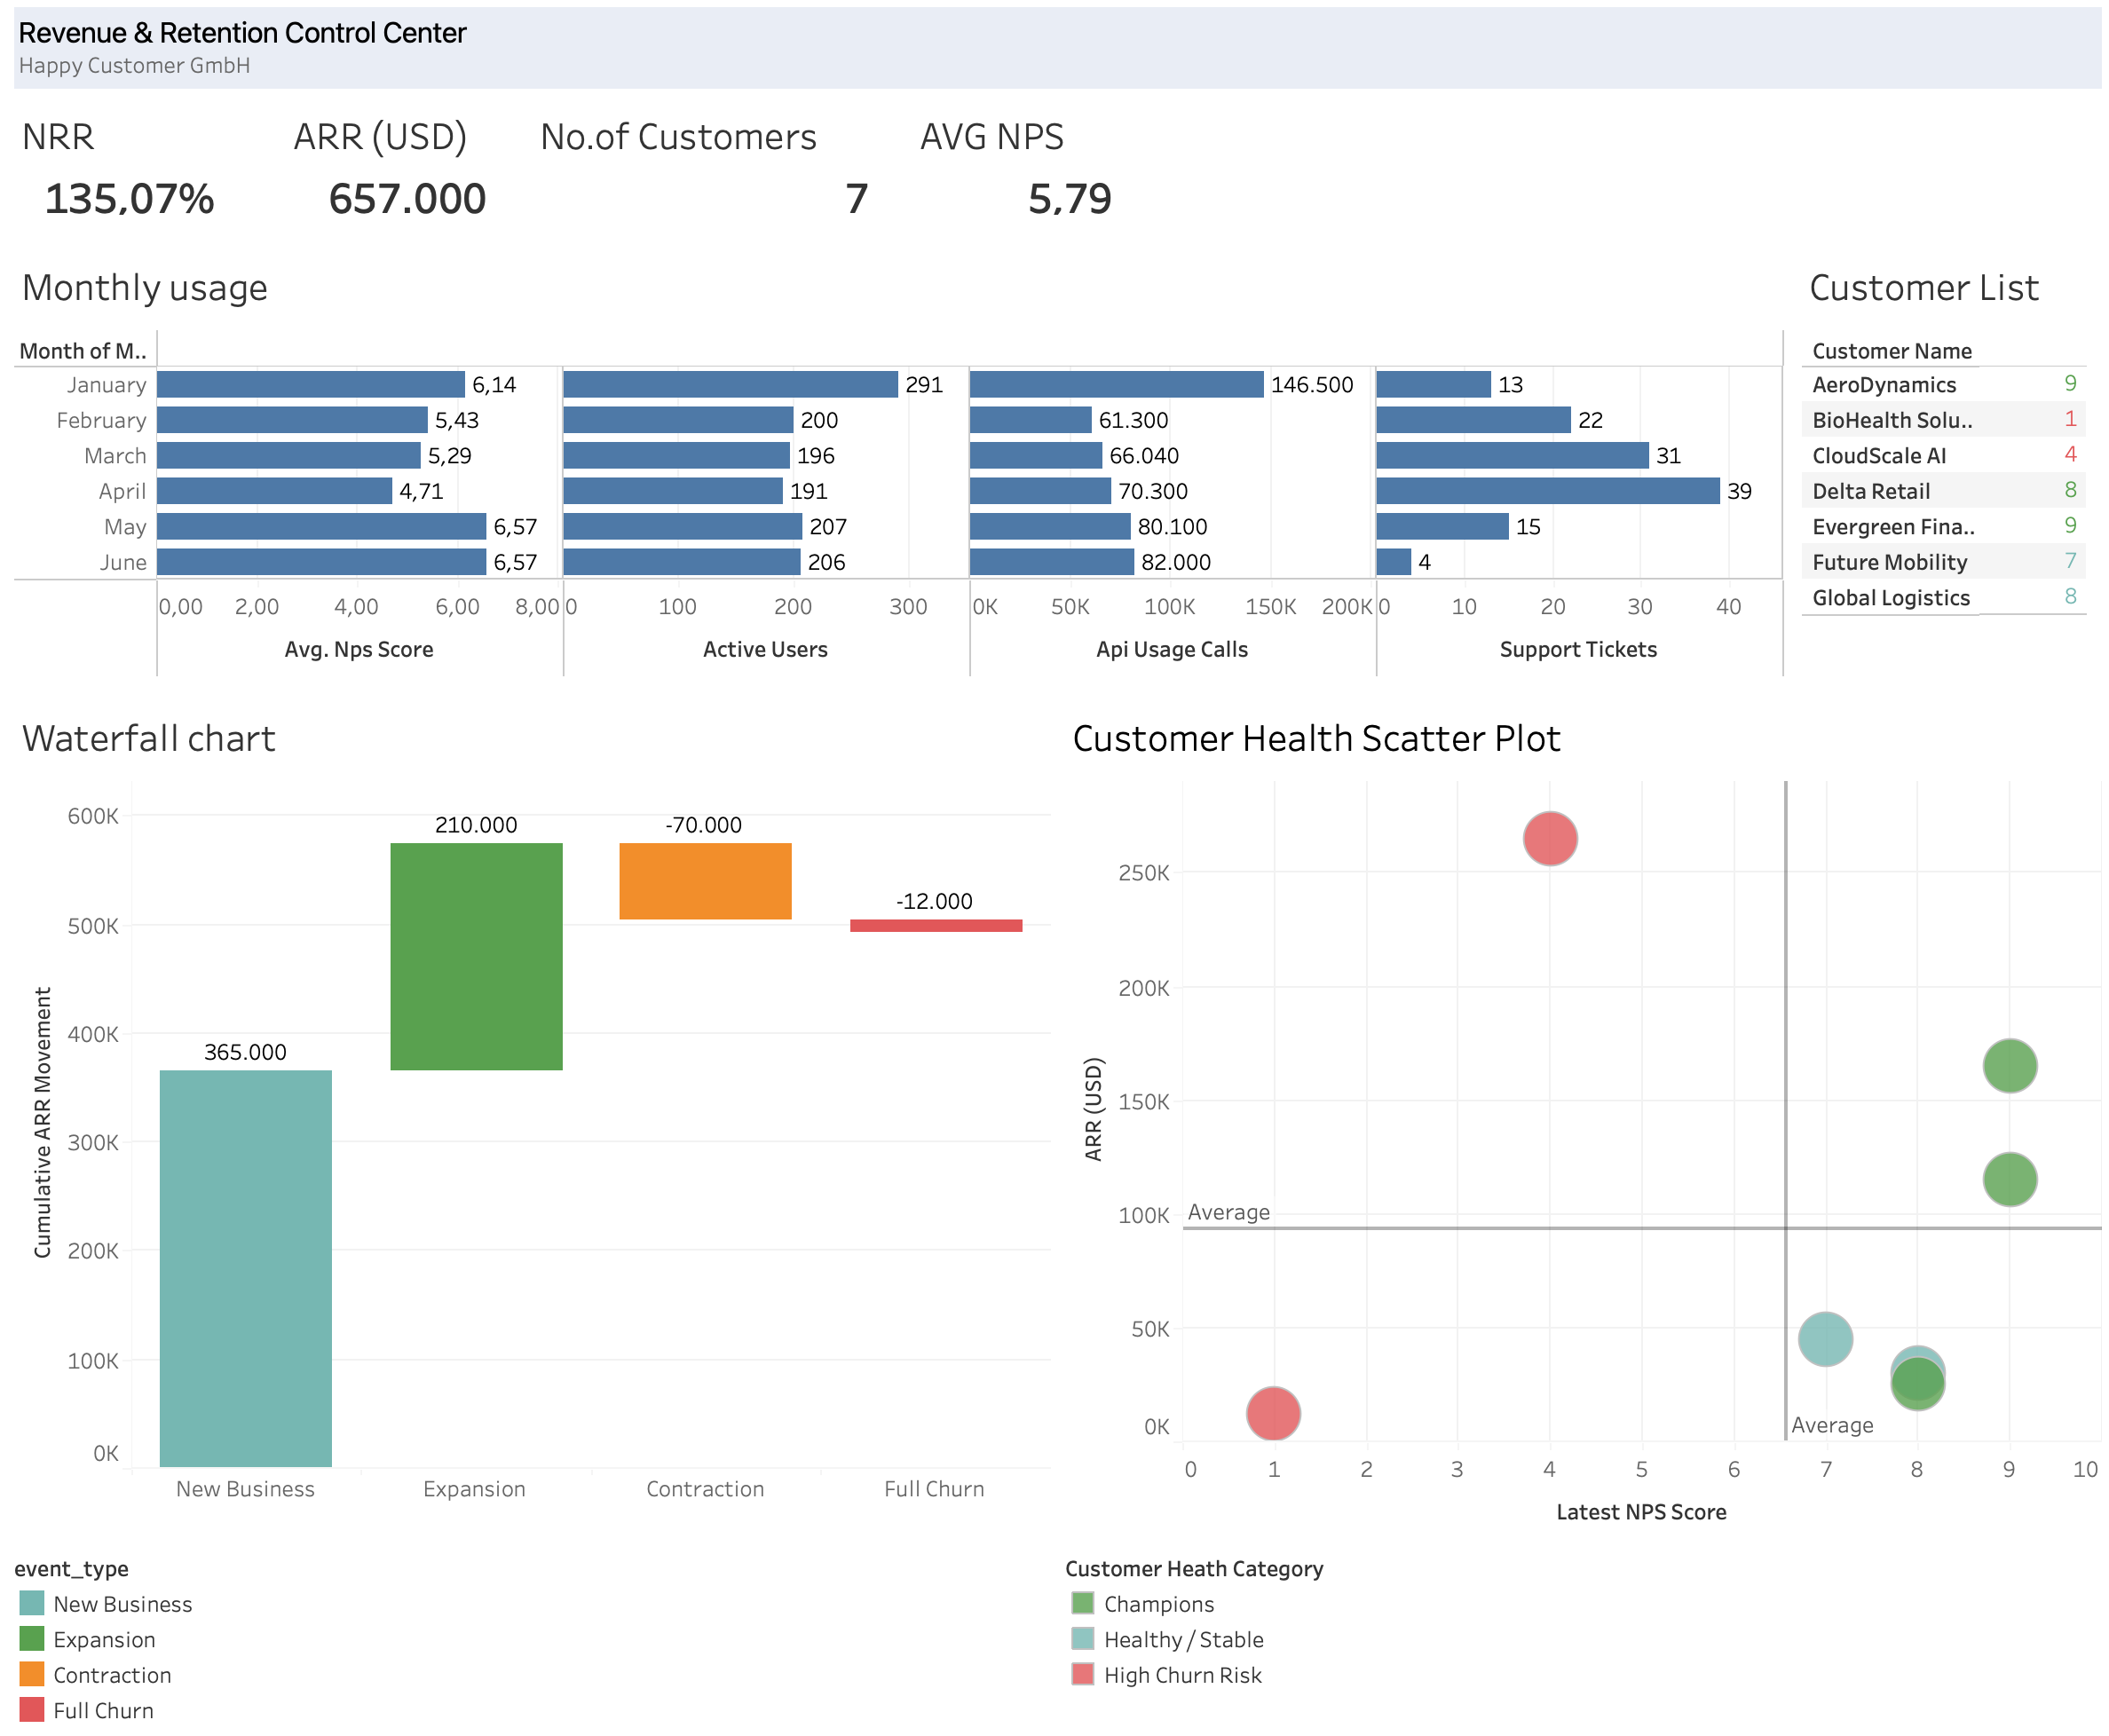

What the dashboard file says about the page in this screenshot:
{"tool":"tableau","page":{"name":"Revenue & Retention Control Center","canvas":[1200,1000],"ordinal":0},"visuals":[{"type":"text","box":[8,8,1184,54]},{"type":"worksheet","title":"NRR SUM","mark":"Automatic","box":[8,62,153,85]},{"type":"worksheet","title":"ARR SUM","mark":"Automatic","box":[161,62,139,85]},{"type":"worksheet","title":"Cust SUM","mark":"Automatic","box":[300,62,214,85]},{"type":"worksheet","title":"AVG NPS","mark":"Automatic","box":[514,62,678,85]},{"type":"worksheet","title":"Monthly usage","mark":"Bar","rows":["month"],"cols":["nps_score","active_users","api_usage_calls","support_tickets"],"box":[8,147,1007,254]},{"type":"worksheet","title":"Customer list","mark":"Automatic","rows":["customer_name"],"box":[1015,147,177,254]},{"type":"worksheet","title":"Waterfall chart","mark":"GanttBar","rows":["Retained + Expanded ARR (copy)_1938628615229445"],"cols":["event_type"],"box":[8,401,592,478]},{"type":"worksheet","title":"Customer Health Scatter Plot","mark":"Circle","rows":["arr_usd"],"cols":["Calculation_1938628624375816"],"box":[600,401,592,478]},{"type":"legend","title":"Waterfall chart","param":"[federated.0skpw0812hv9se191jrfz1t6wu5e].[none:event_type:nk]","box":[8,879,592,113]},{"type":"legend","title":"Customer Health Scatter Plot","param":"[federated.0skpw0812hv9se191jrfz1t6wu5e].[none:Calculation_1938628624068615:nk]","box":[600,879,592,86]}]}

Visuals, with their boxes in screenshot pixels (x1, y1, x2, y2), scaled from the page's 1200x1000 canvas onto the 2109x1736 screenshot:
text: crop(14, 14, 2095, 107)
"NRR SUM" worksheet: crop(14, 107, 283, 256)
"ARR SUM" worksheet: crop(283, 107, 527, 256)
"Cust SUM" worksheet: crop(527, 107, 904, 256)
"AVG NPS" worksheet: crop(904, 107, 2095, 256)
"Monthly usage" worksheet (Bar marks): crop(14, 256, 1784, 696)
"Customer list" worksheet: crop(1784, 256, 2095, 696)
"Waterfall chart" worksheet (GanttBar marks): crop(14, 696, 1054, 1526)
"Customer Health Scatter Plot" worksheet (Circle marks): crop(1054, 696, 2095, 1526)
"Waterfall chart" legend: crop(14, 1526, 1054, 1722)
"Customer Health Scatter Plot" legend: crop(1054, 1526, 2095, 1676)
